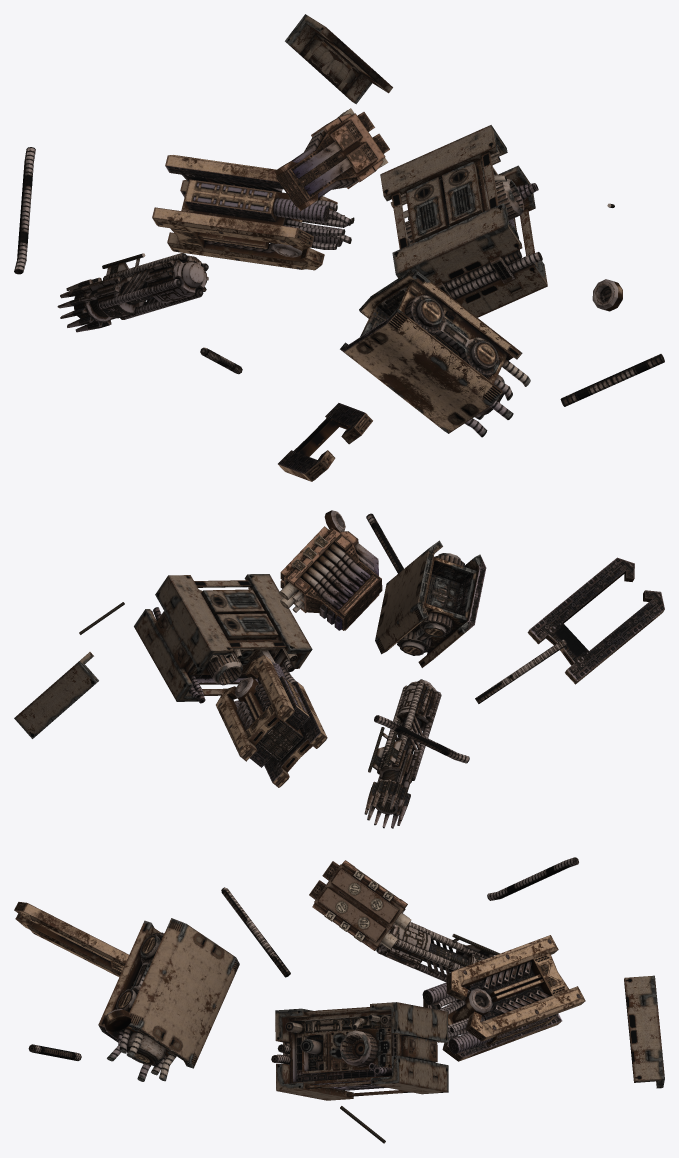
File: spacejunk.FBX
The picture shows the model from 3 angles, top to bottom: view 1: azimuth 30°, elevation 25°; view 2: azimuth 150°, elevation 25°; view 3: azimuth 270°, elevation 25°; orthographic projection. The views are drawn at different scales.
Parts seen in each view (by area): view 1: 2, 4, 3, 5, 1; view 2: 2, 4, 3, 1, 5; view 3: 2, 4, 3, 1, 5.
Boxes of the visible parts, x1,y1,x2,y2 form: 2: (14, 14, 664, 406); 4: (152, 155, 622, 481); 3: (340, 268, 530, 437); 5: (57, 203, 614, 374); 1: (273, 108, 389, 210); 2: (14, 513, 469, 763); 4: (216, 510, 664, 787); 3: (375, 540, 486, 667); 1: (279, 526, 382, 630); 5: (79, 602, 567, 828); 2: (28, 857, 664, 1100); 4: (14, 902, 585, 1061); 3: (98, 918, 239, 1081); 1: (309, 860, 411, 950); 5: (221, 887, 499, 1143).
Size of the model in its own units: 696 by 311 by 834.
5 materials, 5 textured.
